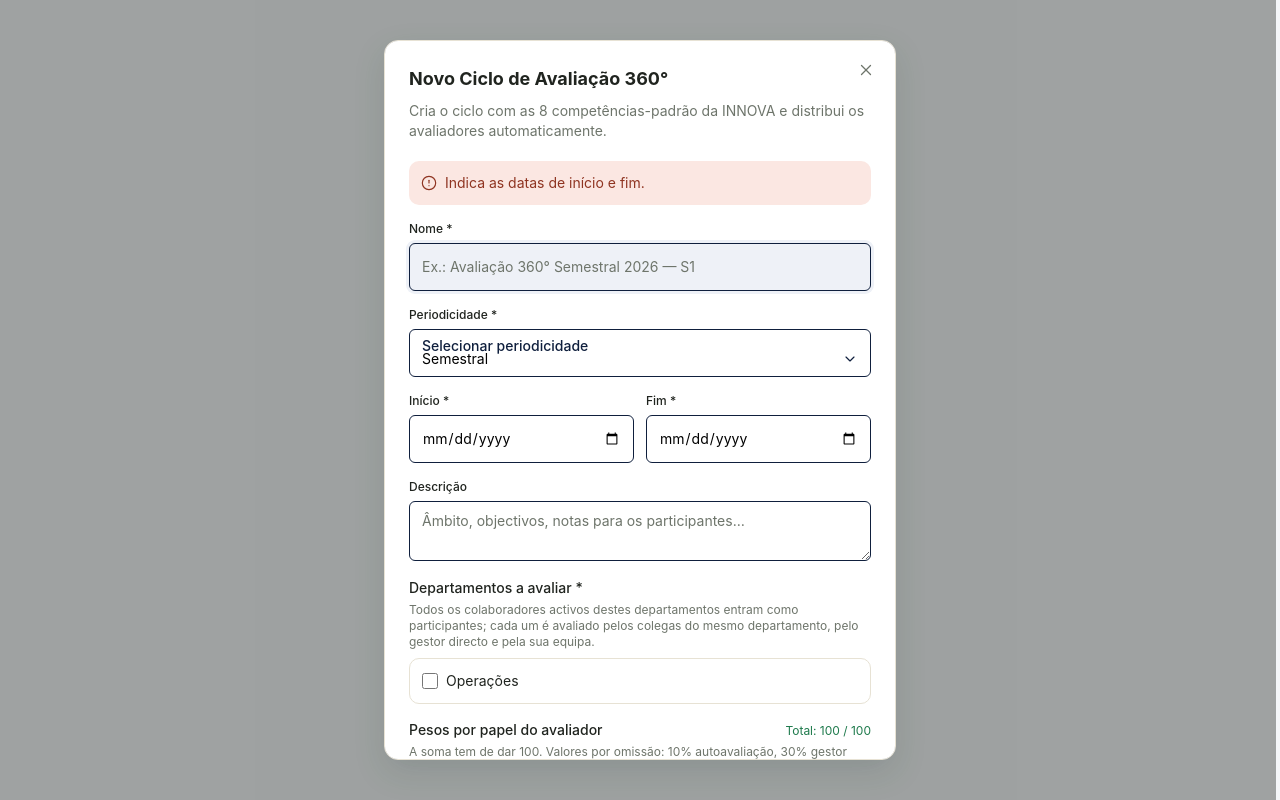
it: CreateCycleModal (evaluation360) › não submete sem departamento seleccionado
Type "Ciclo 2026 S1" into the field labelled "Nome *" at (640, 267), box top-left (409, 243), bottom-right (871, 291)
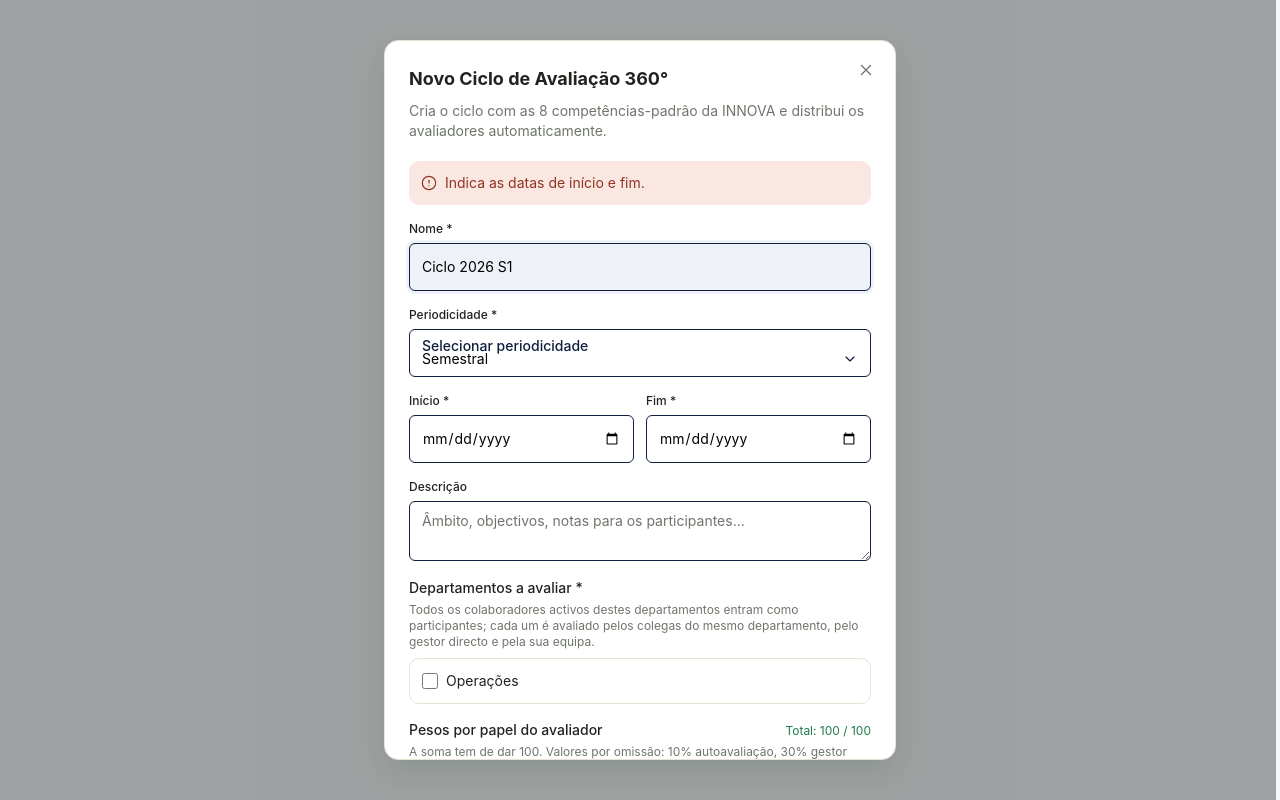
Type "2026-01-01" into the date field labelled "Início *" at (522, 439), box top-left (409, 415), bottom-right (634, 463)
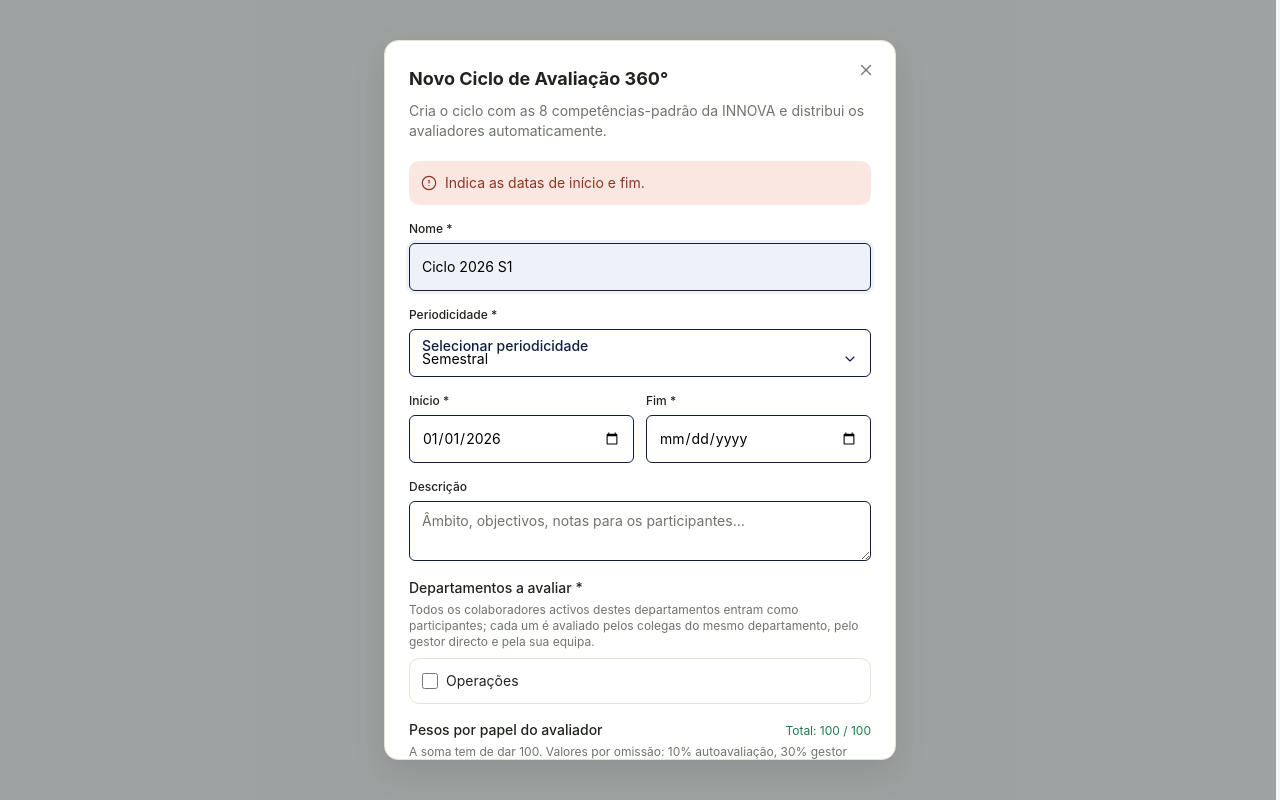
Type "2026-06-30" into the date field labelled "Fim *" at (758, 439), box top-left (646, 415), bottom-right (871, 463)
(page scrolled)
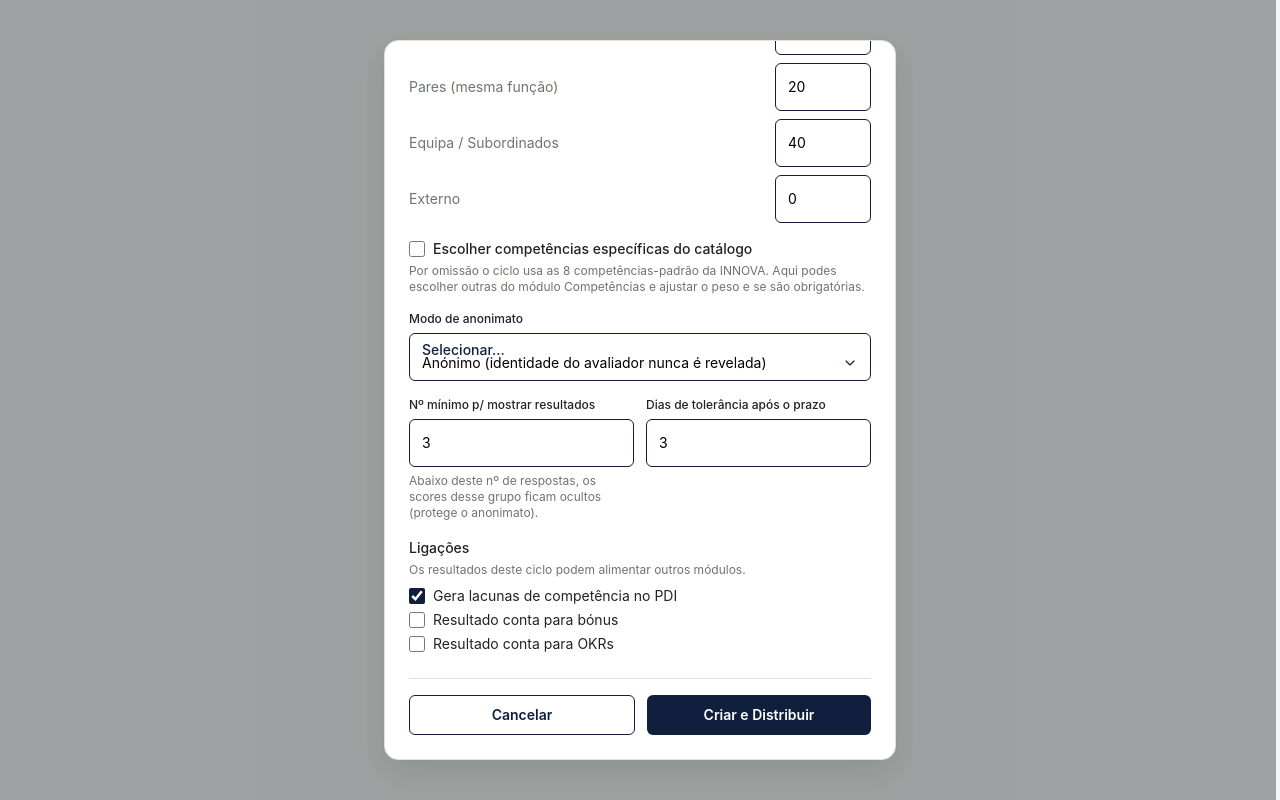
Click the button "Criar e Distribuir" at (759, 715), box top-left (647, 695), bottom-right (871, 735)
(page scrolled)
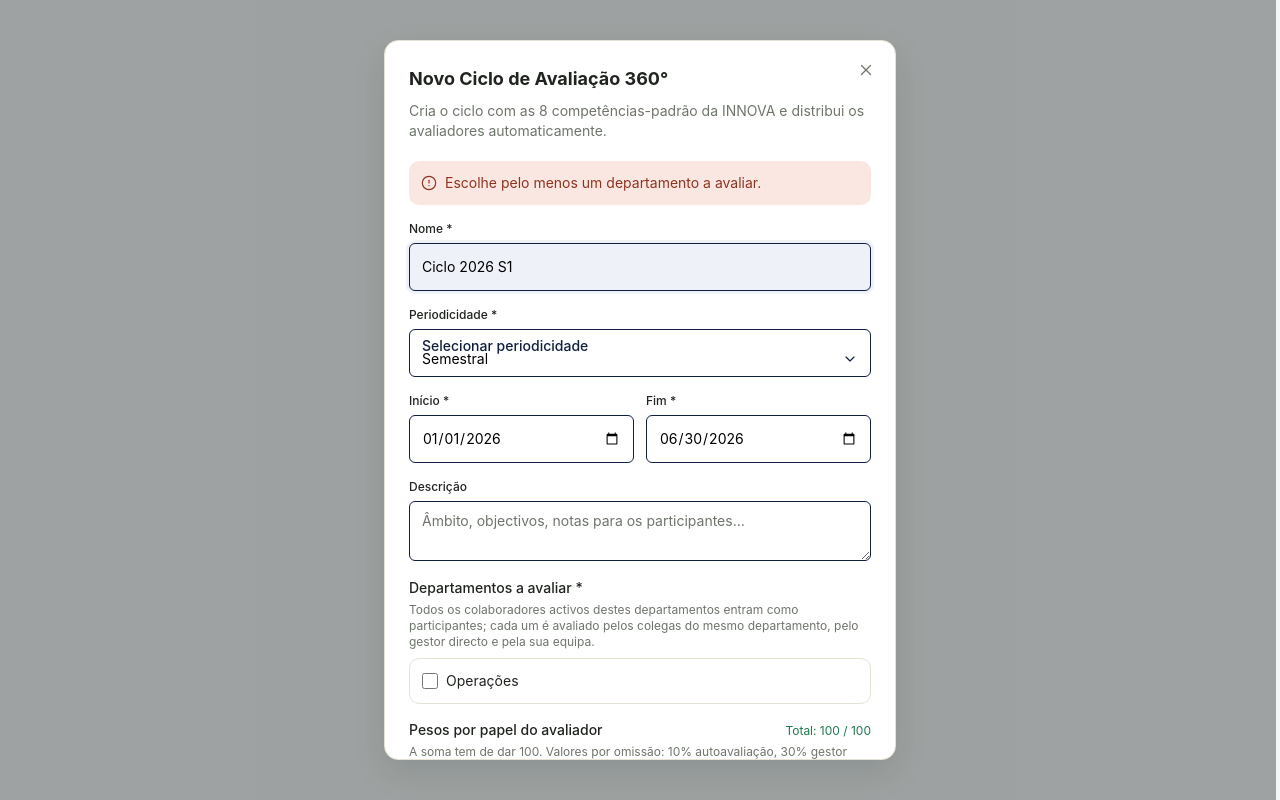
Now the text "Escolhe pelo menos um departamento a avaliar." is shown, box top-left (409, 161), bottom-right (871, 205)
